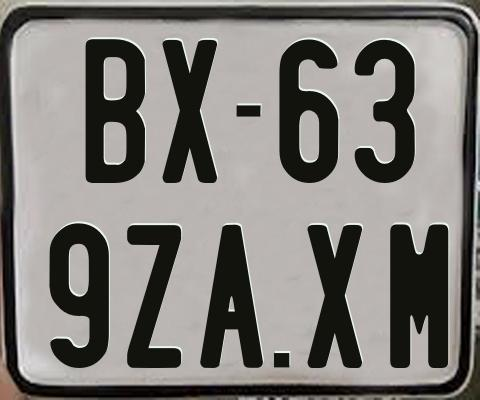3: (354, 37, 416, 185)
6: (277, 38, 342, 181)
9: (49, 222, 114, 373)
A: (198, 225, 267, 373)
B: (82, 39, 143, 185)
M: (388, 222, 452, 367)
X: (159, 37, 216, 184), (305, 225, 360, 372)
Z: (127, 225, 183, 368)
